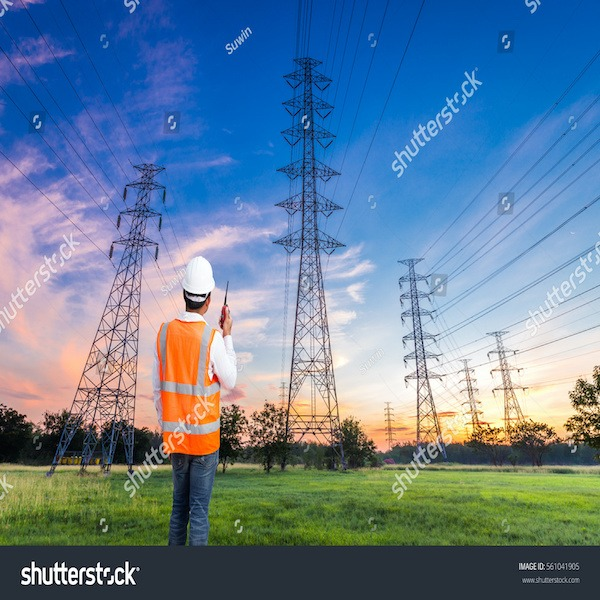helmet: (183, 255, 221, 297)
vest: (157, 317, 225, 453)
